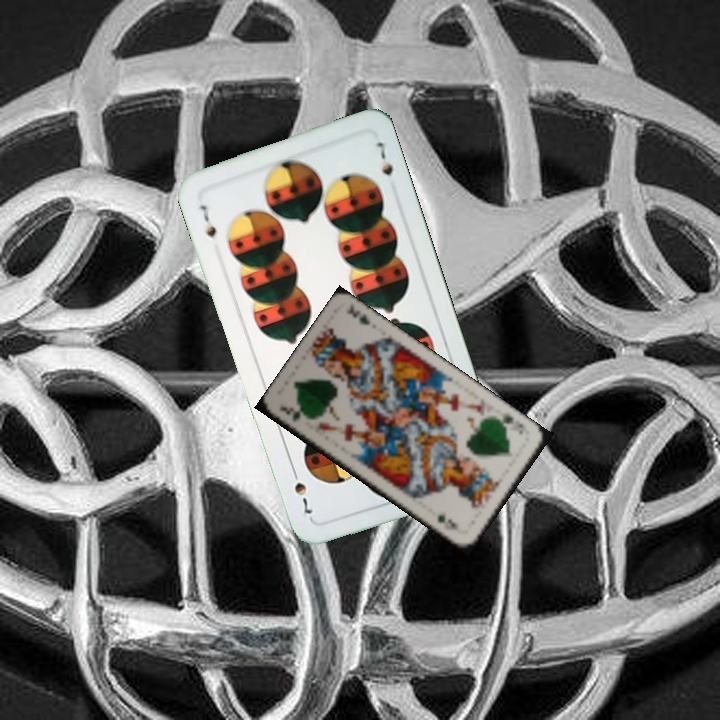GK: (274, 402, 303, 425), (494, 410, 525, 428)
S7: (195, 201, 219, 241)
